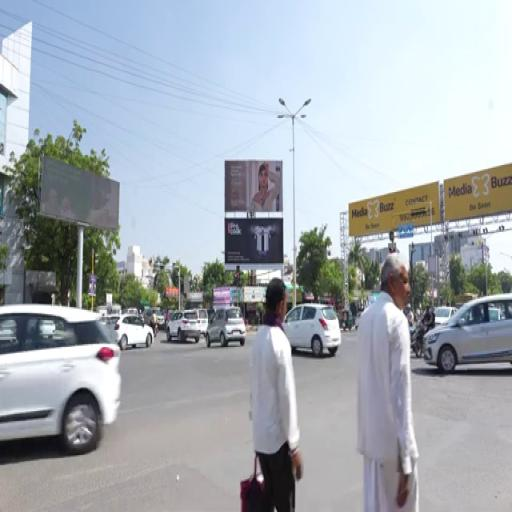Car: (0, 305, 120, 455), (424, 295, 511, 372), (284, 303, 341, 356), (206, 308, 246, 347), (114, 315, 153, 349), (167, 309, 201, 342), (100, 315, 119, 344), (435, 306, 456, 325), (198, 309, 208, 338), (155, 311, 165, 329)
